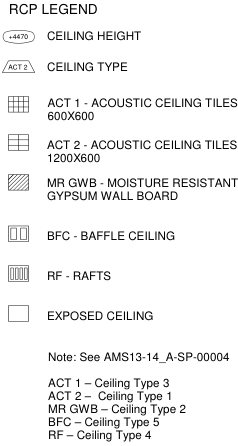hatch: (2, 28, 38, 46), (0, 57, 38, 74), (6, 303, 31, 324), (6, 94, 32, 114), (7, 172, 31, 192), (6, 133, 31, 152), (6, 224, 31, 243), (7, 263, 30, 283)
label: (46, 94, 238, 122), (45, 138, 238, 165), (46, 175, 238, 202), (44, 228, 176, 243), (46, 308, 156, 322), (45, 28, 143, 42), (45, 60, 132, 75), (42, 268, 118, 282)
